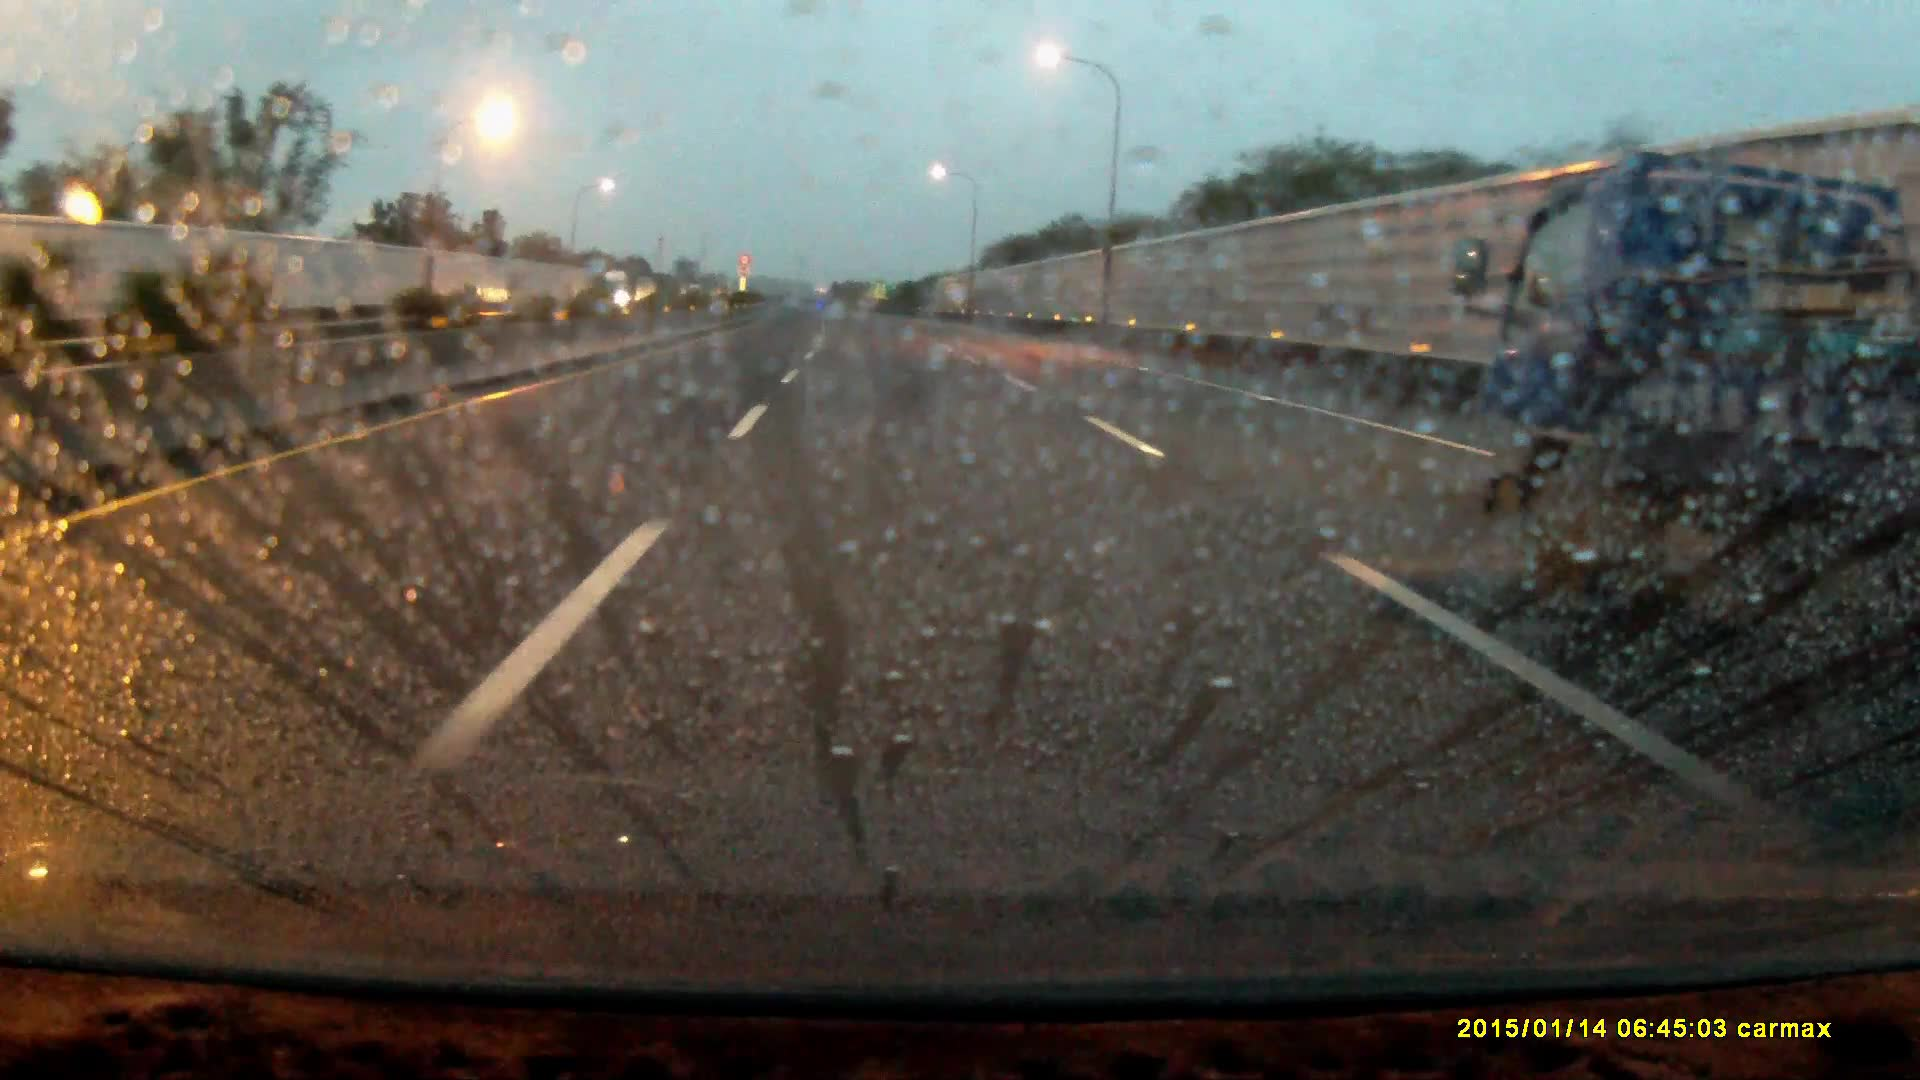vehicle: (1494, 152, 1920, 608), (601, 268, 638, 305)
